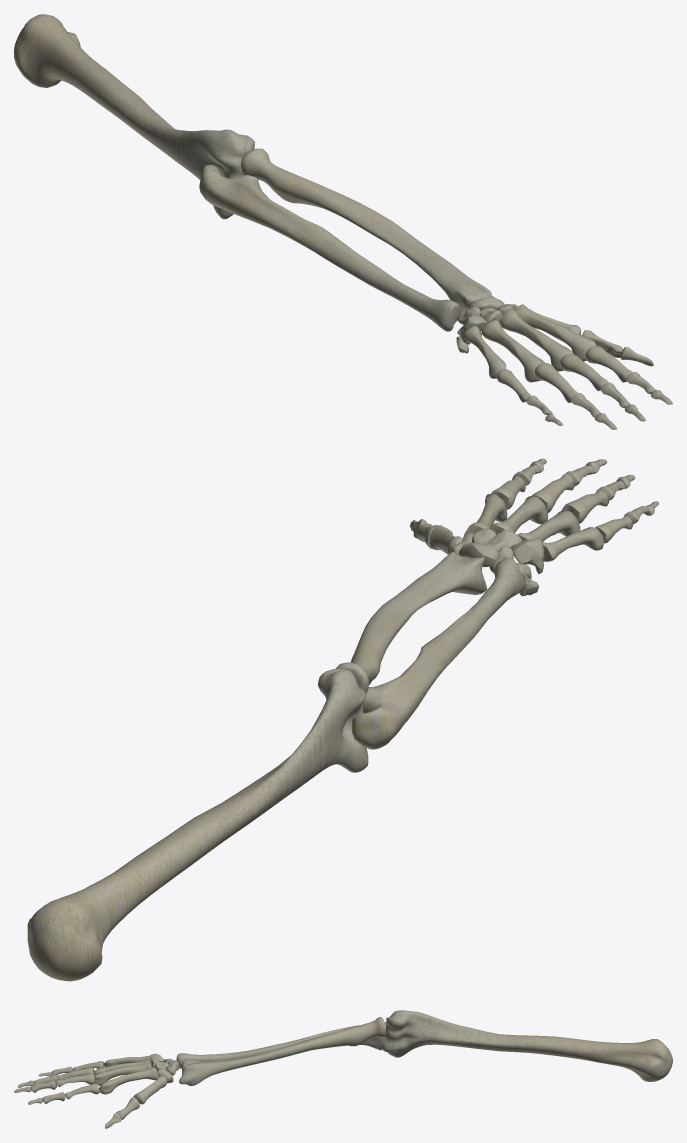
Rendered from right.arm.bones.glb.
The picture shows the model from 3 angles, top to bottom: view 1: azimuth 30°, elevation 25°; view 2: azimuth 150°, elevation 25°; view 3: azimuth 270°, elevation 25°; orthographic projection. The views are drawn at different scales.
Visible parts, largest first — view 1: humorus, ulna, radius, mcarple2, mcarple3, mcarpal4, mcarpal5, phalx3p, phalanx2, phalx4p; view 2: humorus, ulna, radius, mcarple3, mcarpal5, mcarpal4, mcarple2, hamate; view 3: humorus, radius, ulna, mcarple2, mcarple3, metacpl1, phalx3p, mcarpal5, phalanx2, mcarpal4, phalng1p, phalx4p.
Boxes of the visible parts, x1,y1,x2,y2 form: humorus: (14, 14, 255, 219); ulna: (199, 164, 461, 331); radius: (241, 148, 494, 315); mcarple2: (515, 304, 596, 361); mcarple3: (499, 309, 573, 371); mcarpal4: (481, 320, 544, 382); mcarpal5: (463, 326, 506, 378); phalx3p: (560, 354, 608, 391); phalanx2: (585, 346, 632, 382); phalx4p: (535, 363, 577, 402); humorus: (27, 668, 368, 981); ulna: (351, 558, 525, 749); radius: (335, 552, 487, 693); mcarple3: (489, 496, 548, 534); mcarpal5: (542, 527, 603, 561); mcarpal4: (513, 510, 580, 555); mcarple2: (463, 494, 507, 538); hamate: (513, 538, 543, 574); humorus: (382, 1010, 672, 1081); radius: (179, 1017, 386, 1085); ulna: (176, 1021, 386, 1068); mcarple2: (99, 1067, 158, 1094); mcarple3: (94, 1062, 151, 1085); metacpl1: (133, 1076, 167, 1104); phalx3p: (55, 1073, 94, 1086); mcarpal5: (104, 1055, 151, 1067); phalanx2: (64, 1083, 99, 1099); mcarpal4: (93, 1060, 150, 1074); phalng1p: (116, 1097, 139, 1119); phalx4p: (57, 1067, 94, 1080).
Size of the model in its own units: 3.28 by 1.49 by 13.87.
1 material, 1 textured.
